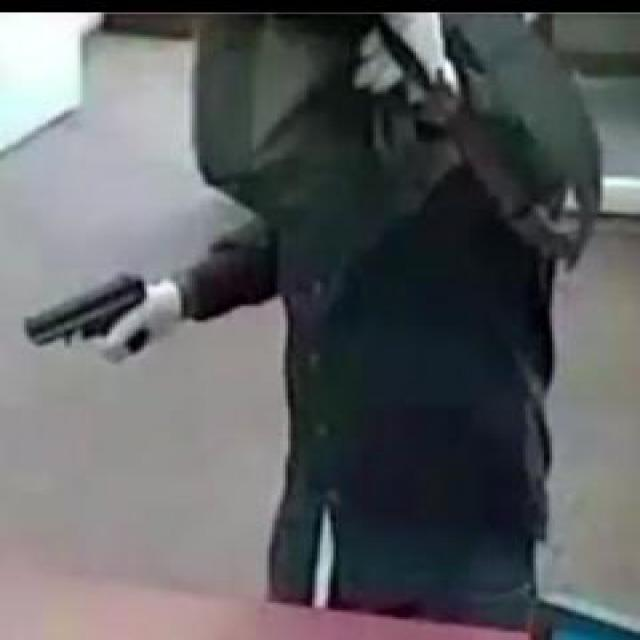Gun: (19, 265, 154, 359)
